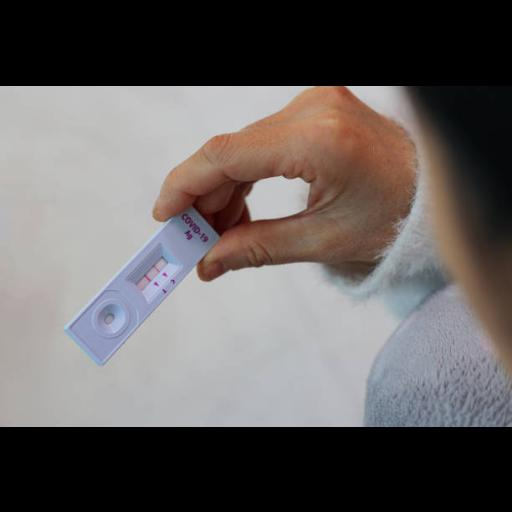Pos: (70, 202, 222, 365)
